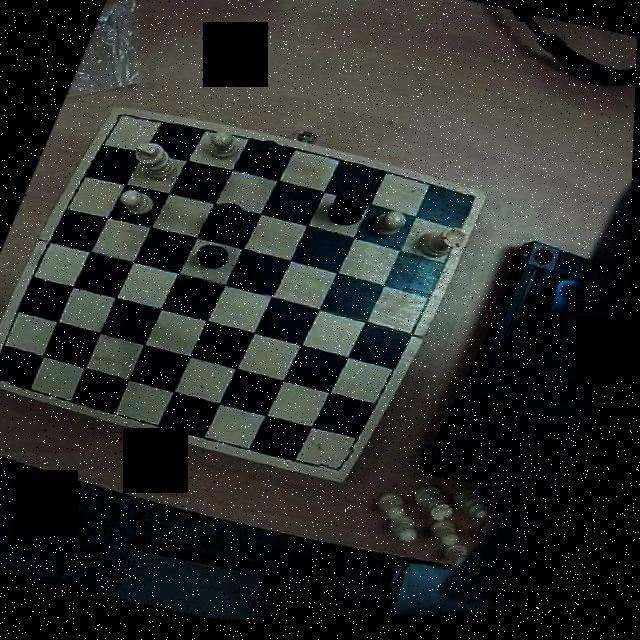chess-table-corners: (318, 444, 360, 486), (446, 188, 486, 228), (104, 104, 140, 136), (0, 354, 21, 391)
